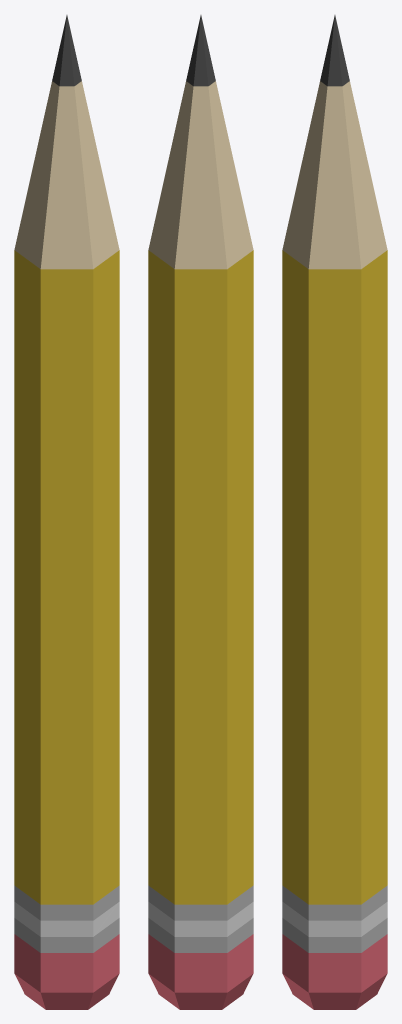
Rendered from Pencil_Short.fbx.
The picture shows the model from 3 angles, left to right: view 1: azimuth 30°, elevation 25°; view 2: azimuth 210°, elevation 25°; view 3: azimuth 270°, elevation 25°; orthographic projection.
Visible parts, largest first — view 1: Pencil_Short; view 2: Pencil_Short; view 3: Pencil_Short.
Boxes of the visible parts, box(x1,y1,x2,y2) form: Pencil_Short: box(14, 15, 119, 1009); Pencil_Short: box(148, 15, 253, 1009); Pencil_Short: box(282, 15, 387, 1009).
Size of the model in its own units: 4.9 by 58.24 by 5.66.
